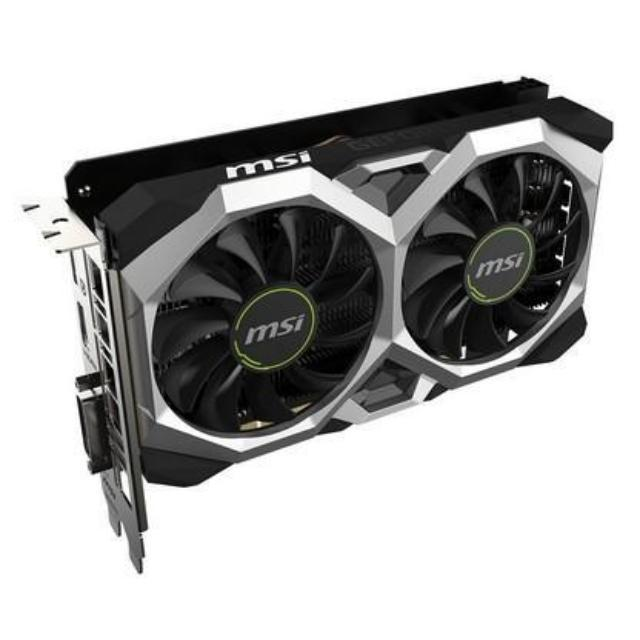GPU: (30, 64, 628, 488)
